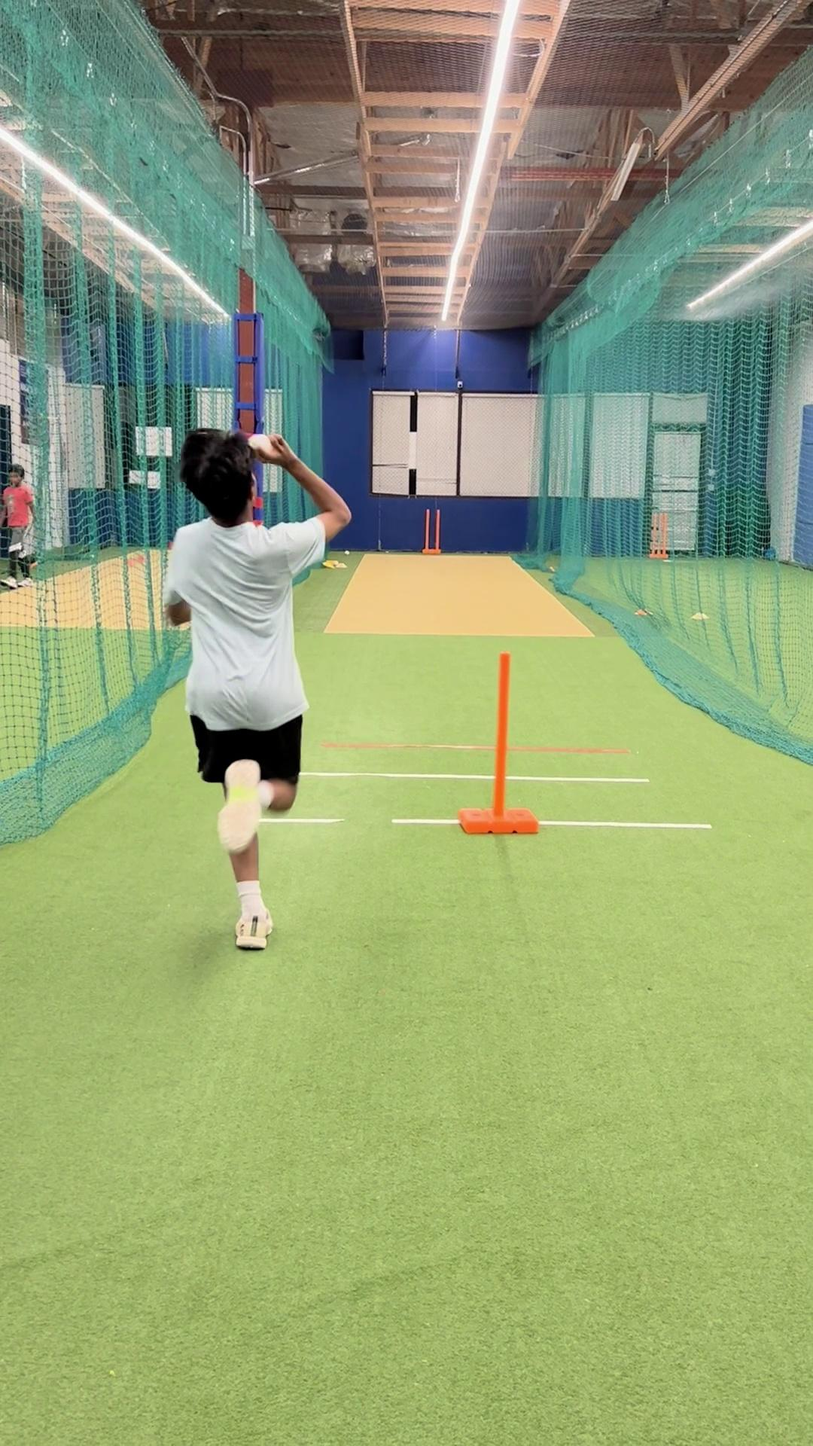ball: (241, 427, 275, 462)
